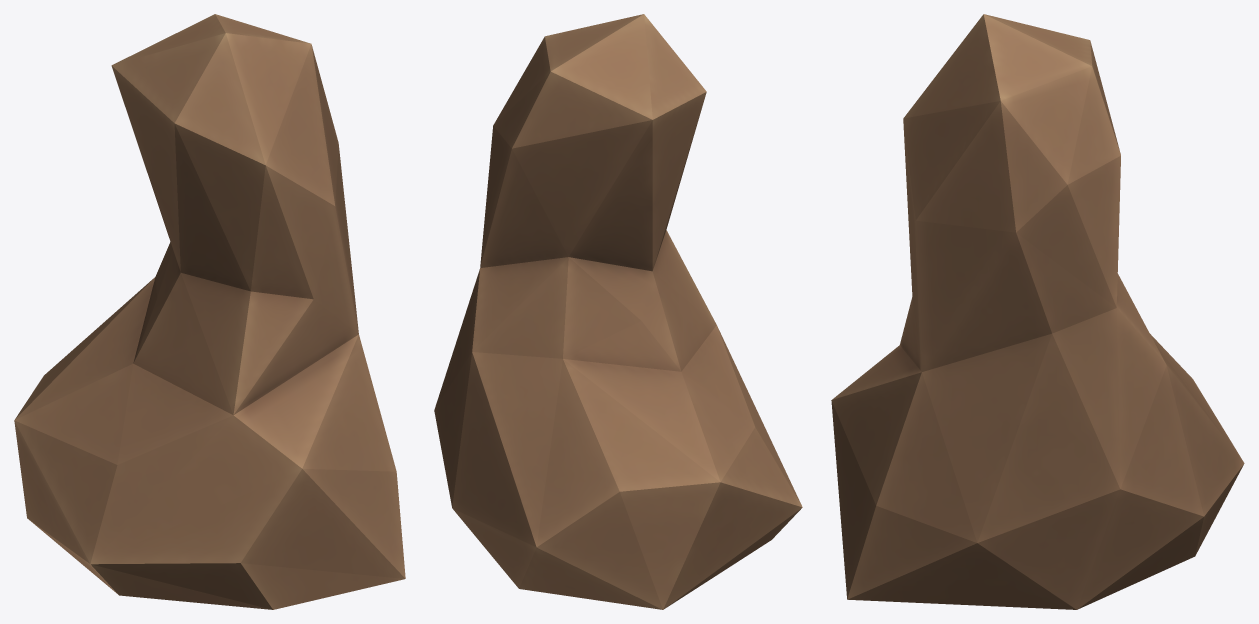
The model's file is Rock_5.fbx.
3 views of the same model, side by side, from view 1: azimuth 30°, elevation 25°; view 2: azimuth 150°, elevation 25°; view 3: azimuth 270°, elevation 25° (orthographic). The views are drawn at different scales.
Parts seen in each view (by area): view 1: Rock_5; view 2: Rock_5; view 3: Rock_5.
Boxes of the visible parts, box(x1,y1,x2,y2) form: Rock_5: box(14, 14, 405, 609); Rock_5: box(434, 14, 802, 609); Rock_5: box(831, 14, 1244, 609).
Bounding box in the file's own units: 29.77 × 34.59 × 48.99.
Materials: 1 (1 with a texture image).
